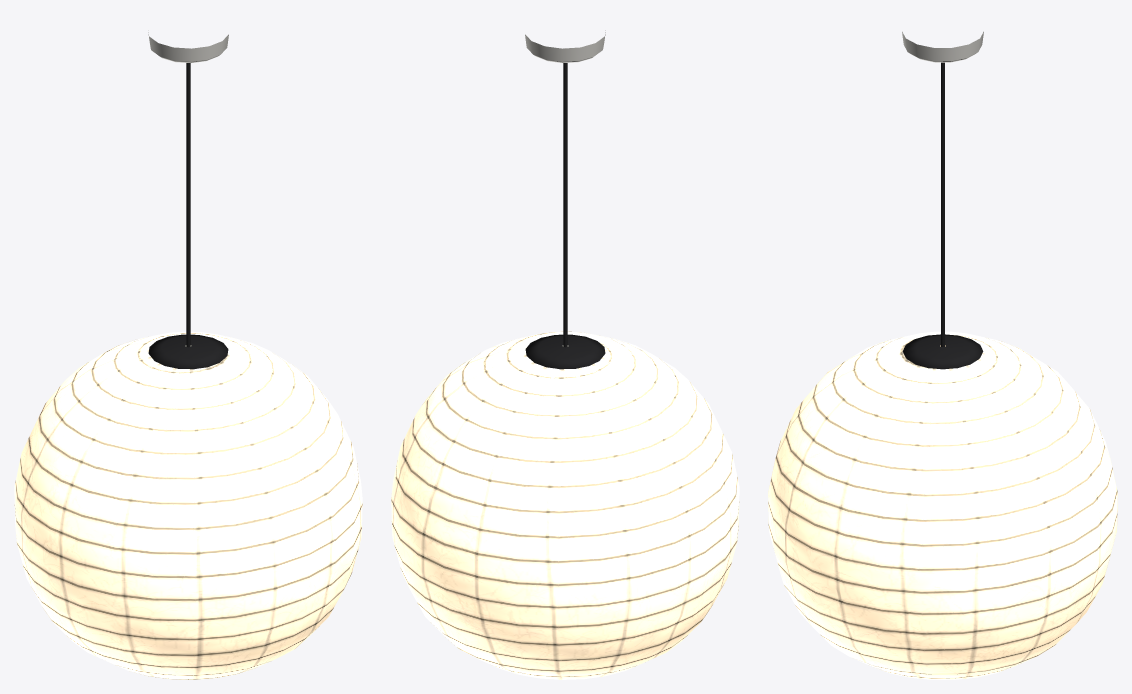
Rendered from pendant_lantern.glb.
3 renders of one model, left to right at view 1: azimuth 30°, elevation 25°; view 2: azimuth 150°, elevation 25°; view 3: azimuth 270°, elevation 25°, orthographic.
Visible parts, largest first — view 1: pendant_lantern_LOD0; view 2: pendant_lantern_LOD0; view 3: pendant_lantern_LOD0.
Part boxes in pixels (box(x1,y1,x2,y2)): pendant_lantern_LOD0: box(14, 30, 362, 679); pendant_lantern_LOD0: box(391, 30, 739, 679); pendant_lantern_LOD0: box(768, 31, 1117, 679).
Size of what is drawn, in the model's own units: 0.4647 by 0.915 by 0.4681.
Materials: 4 (1 with a texture image).
